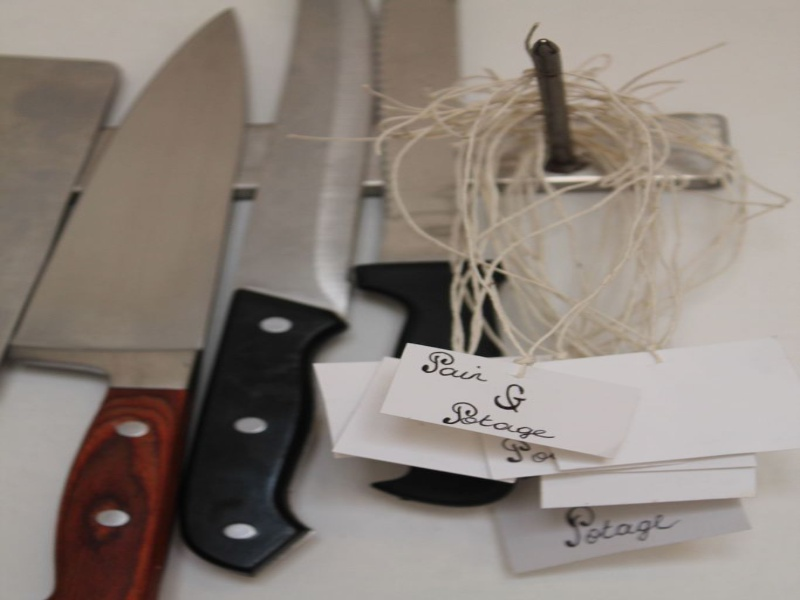knife: (11, 1, 258, 600), (191, 1, 370, 600), (359, 3, 498, 557)
